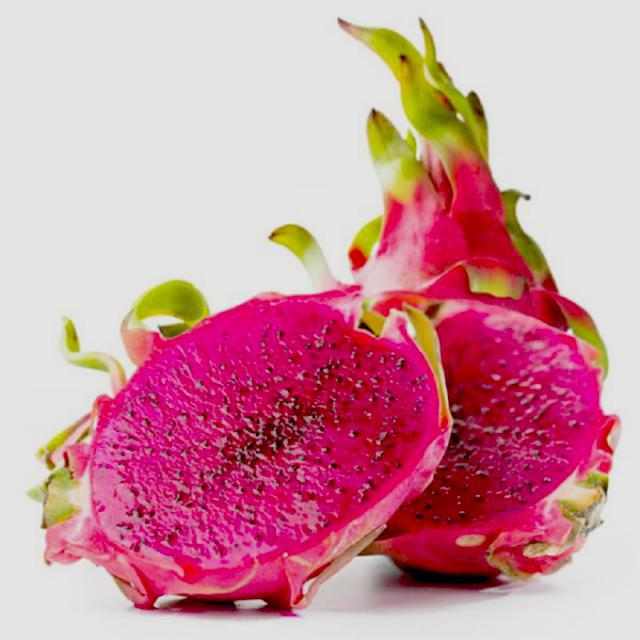do: (28, 259, 462, 623), (318, 16, 586, 338), (400, 287, 616, 581)
